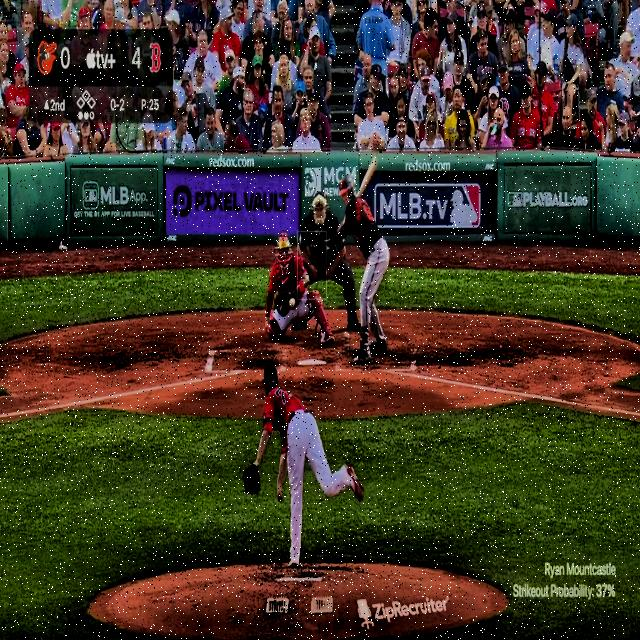baseball: (287, 297, 296, 308)
